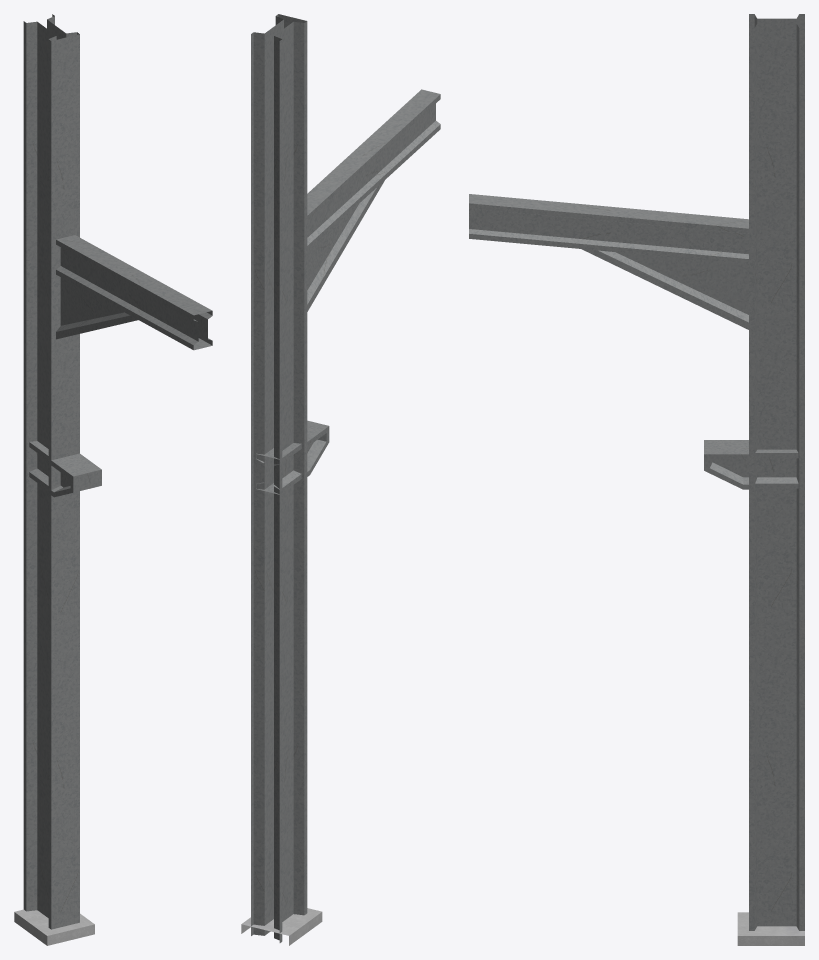
File: warehouse_pillar.glb
3 renders of one model, left to right at view 1: azimuth 30°, elevation 25°; view 2: azimuth 150°, elevation 25°; view 3: azimuth 270°, elevation 25°, orthographic.
Visible parts, largest first — view 1: Cube.005, Cube.006, Cube.028, Cube.031, Cube.032, Cube.033, Cube.007; view 2: Cube.028, Cube.005, Cube.006, Cube.031, Cube.032, Cube.033, Cube.007; view 3: Cube.028, Cube.005, Cube.006, Cube.031, Cube.032, Cube.033, Cube.007.
Part boxes in pixels (x1,y1,x2,y2): Cube.005: (23,620,79,929); Cube.006: (23,321,79,639); Cube.028: (23,14,79,340); Cube.031: (56,235,212,350); Cube.032: (56,277,137,339); Cube.033: (29,441,101,497); Cube.007: (14,909,94,945); Cube.028: (251,14,307,341); Cube.005: (251,623,307,942); Cube.006: (251,322,307,642); Cube.031: (307,89,440,250); Cube.032: (307,180,384,311); Cube.033: (256,420,329,494); Cube.007: (241,908,322,945); Cube.028: (749,14,804,332); Cube.005: (749,632,804,930); Cube.006: (749,327,804,636); Cube.031: (469,194,748,264); Cube.032: (581,249,748,329); Cube.033: (704,440,798,489); Cube.007: (737,912,804,945).
Size of the model in its own units: 2 by 36 by 12.
Materials: 2 (2 with a texture image).
